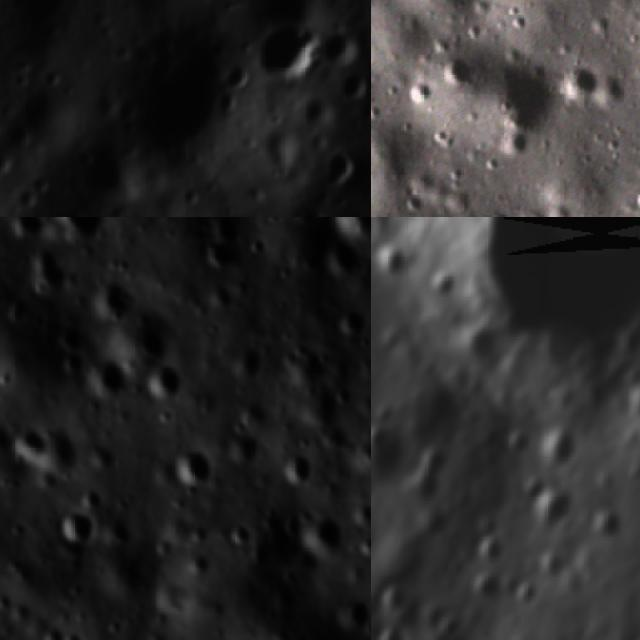crater: (456, 217, 640, 388), (132, 29, 232, 155), (481, 57, 562, 135), (254, 21, 316, 79), (81, 139, 135, 196), (186, 217, 243, 268), (526, 488, 574, 540), (537, 424, 580, 475), (321, 31, 365, 72), (558, 63, 602, 104), (320, 146, 360, 190), (301, 516, 341, 559), (464, 327, 502, 369), (404, 470, 445, 508), (56, 508, 98, 545), (333, 594, 370, 634), (150, 361, 187, 399), (438, 51, 474, 90), (173, 449, 210, 486), (466, 574, 503, 611), (92, 284, 136, 314), (376, 580, 412, 616), (373, 245, 410, 280), (223, 523, 263, 555), (594, 506, 629, 542), (333, 66, 371, 99), (13, 428, 50, 461), (502, 422, 534, 460), (224, 425, 256, 459), (417, 444, 452, 475), (473, 537, 507, 568), (337, 303, 366, 338), (55, 217, 106, 236), (326, 244, 360, 272), (511, 582, 543, 609), (100, 364, 126, 397), (282, 458, 320, 480), (47, 324, 79, 349), (407, 77, 434, 104), (371, 424, 392, 458), (60, 355, 91, 377), (298, 197, 332, 217), (334, 217, 371, 235), (373, 623, 411, 640), (347, 497, 370, 521), (359, 438, 371, 474), (632, 185, 640, 211), (364, 536, 371, 563)
